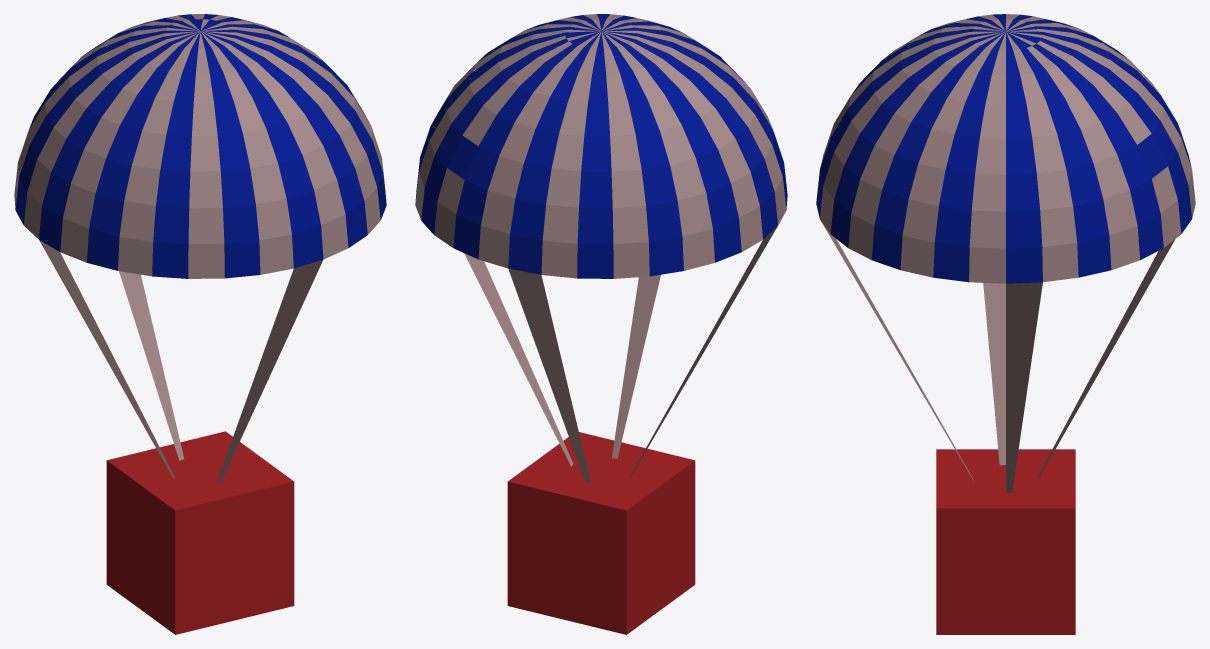
Rendered from parachute.obj.
3 views of the same model, side by side, from view 1: azimuth 30°, elevation 25°; view 2: azimuth 150°, elevation 25°; view 3: azimuth 270°, elevation 25° (orthographic).
Bounding box in the file's own units: 2.24 × 3.74 × 2.24.
